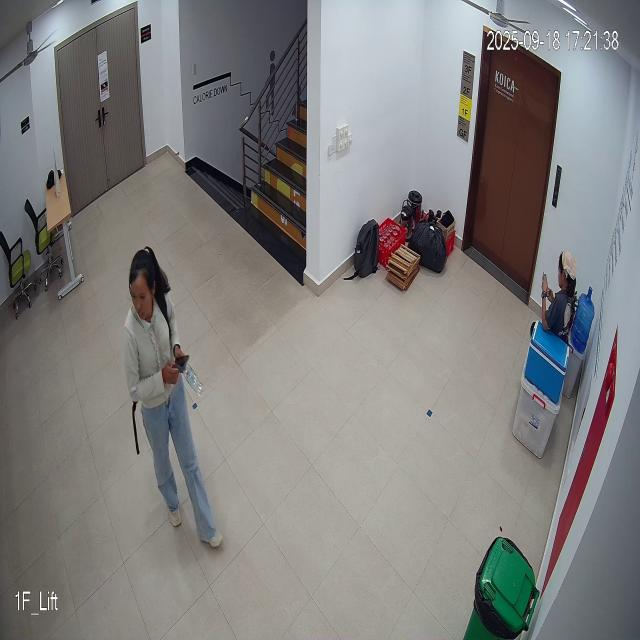face: (126, 244, 165, 322)
